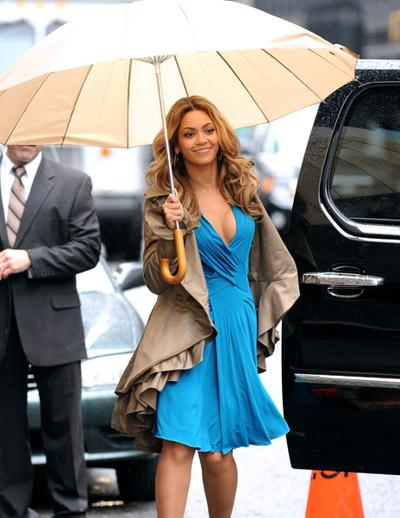person: (113, 95, 301, 518)
